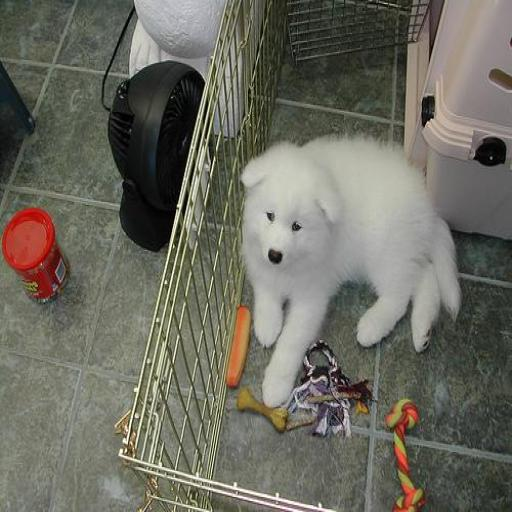dog_face: (240, 147, 343, 271)
